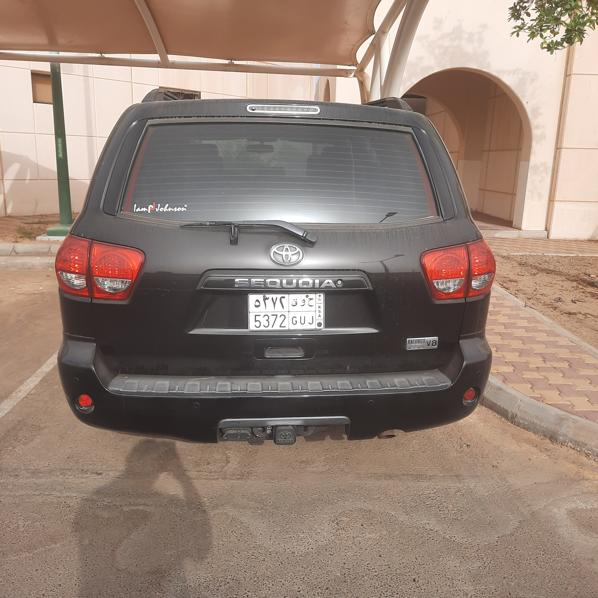numberplate: (248, 293, 324, 329)
